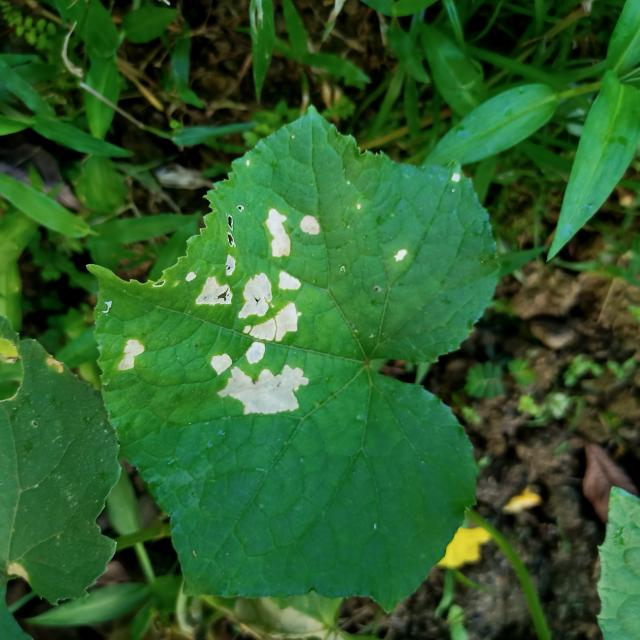disease_cucumber: (186, 203, 328, 419), (115, 326, 156, 383), (389, 244, 412, 264)
